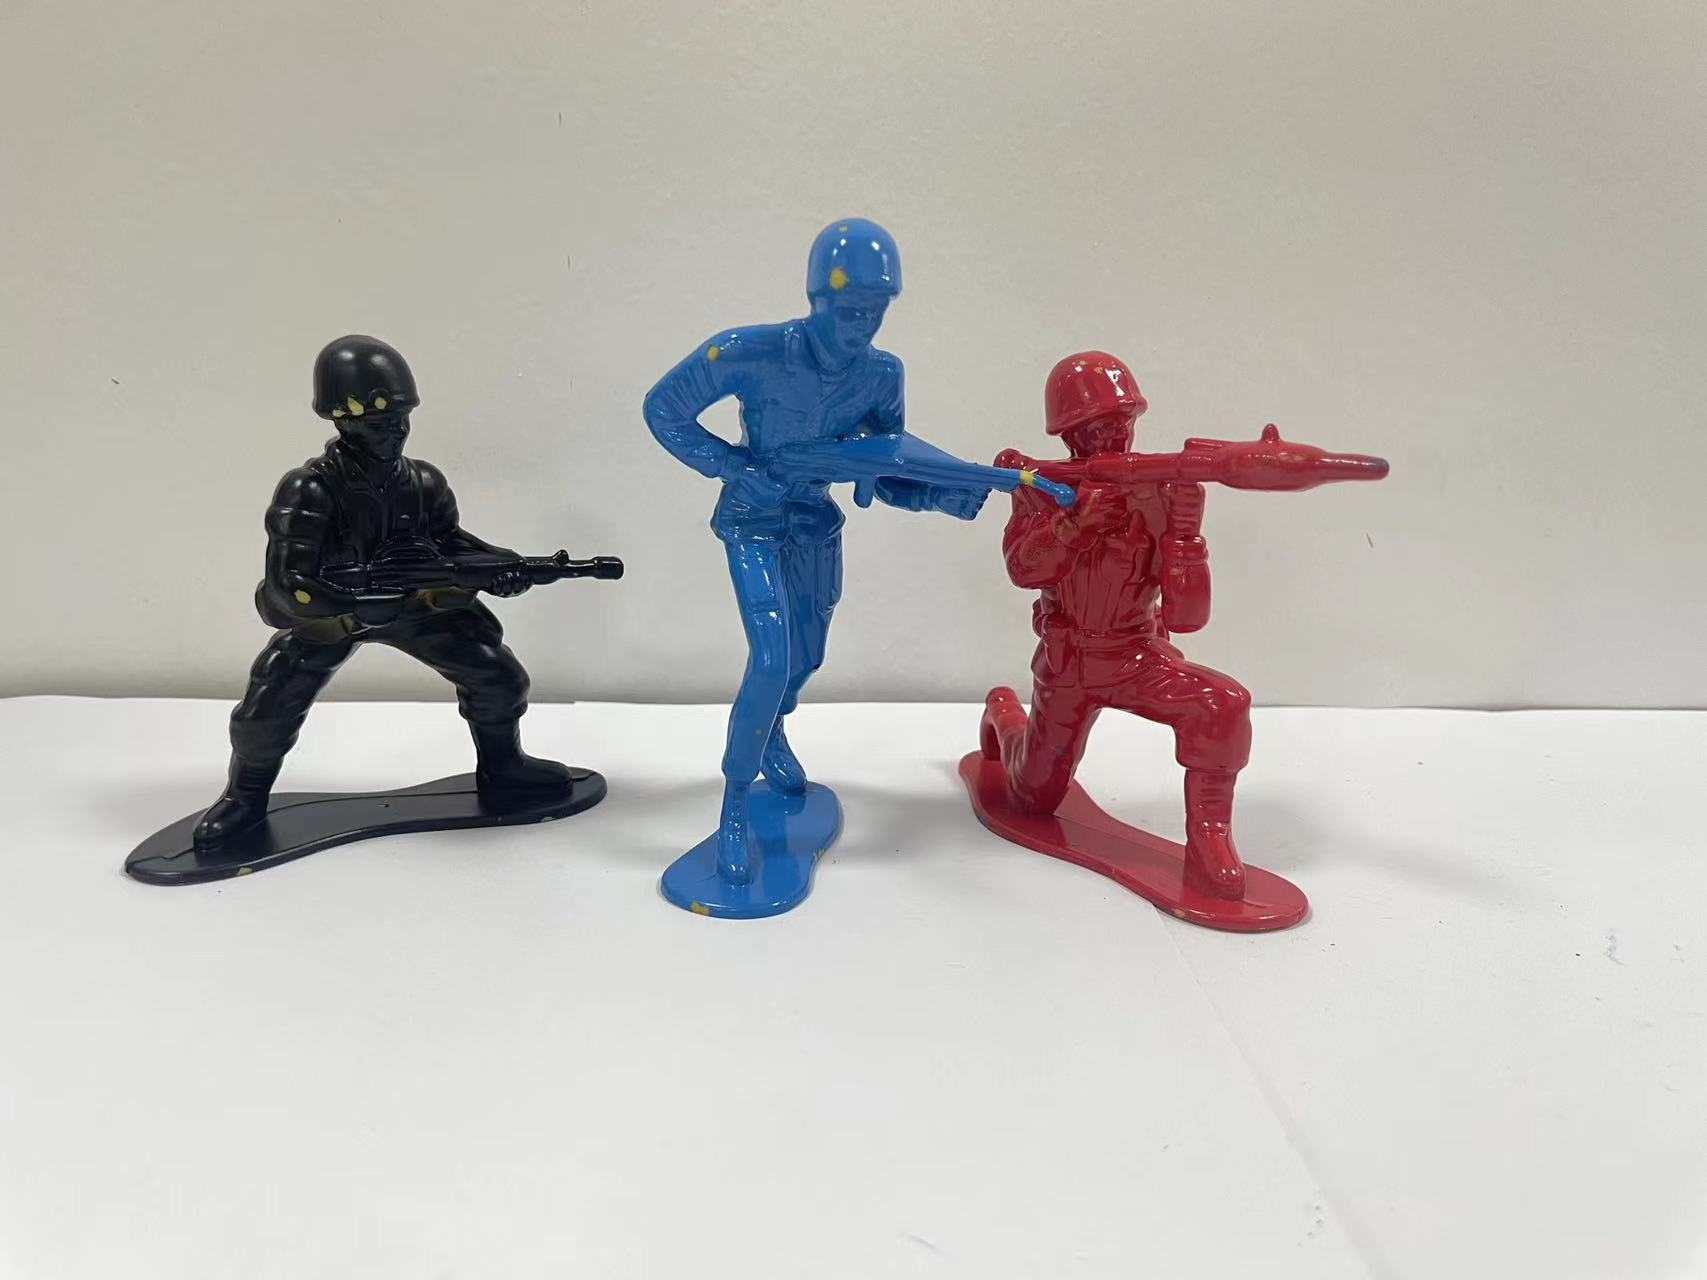black: (124, 265, 620, 938)
blue: (628, 187, 988, 963)
red: (983, 352, 1440, 969)
